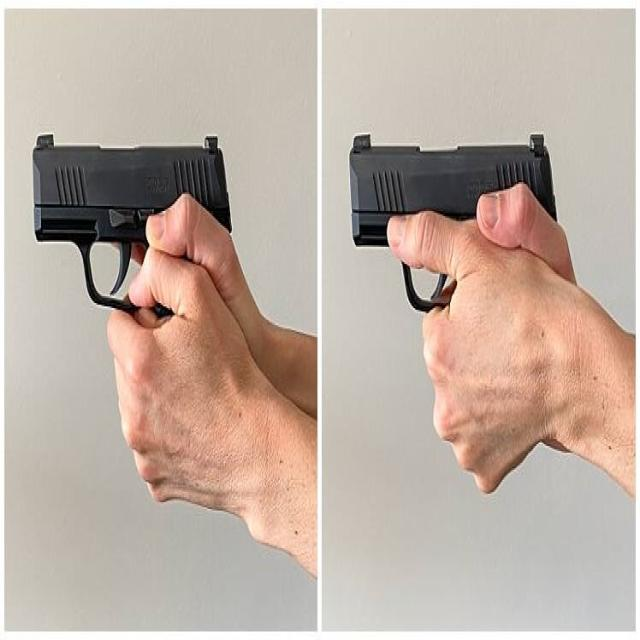HandGun: (32, 134, 232, 323), (349, 134, 557, 249)
